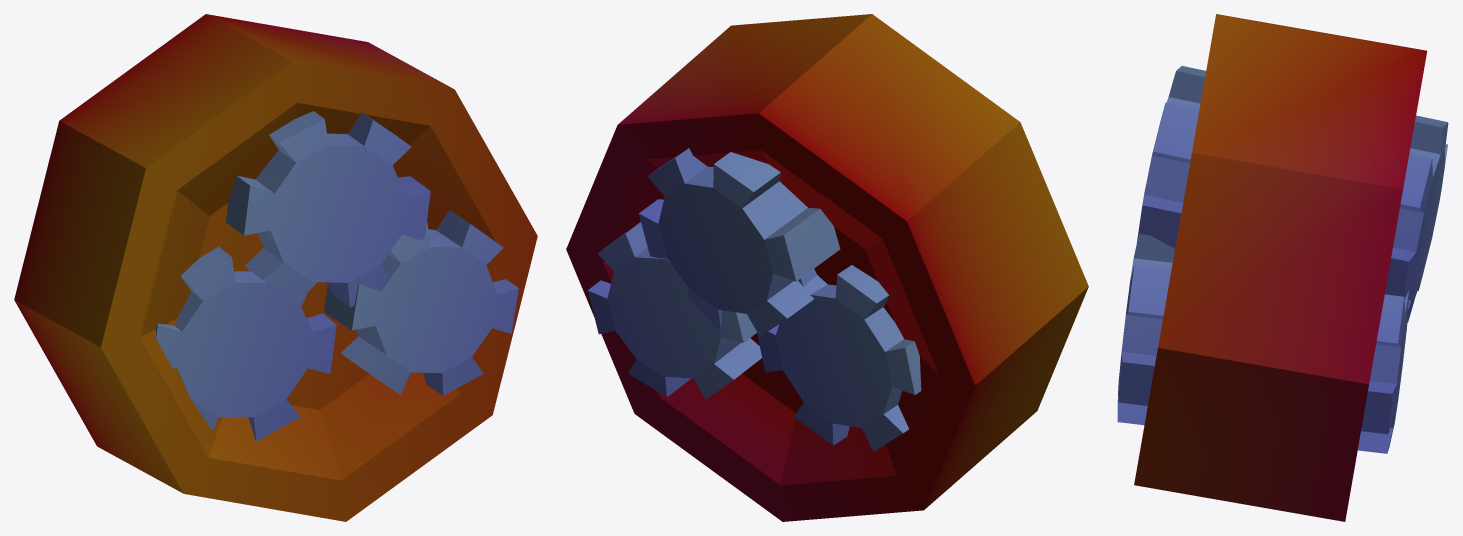
Rendered from монетка .fbx.
3 views of the same model, side by side, from view 1: azimuth 30°, elevation 25°; view 2: azimuth 150°, elevation 25°; view 3: azimuth 270°, elevation 25° (orthographic). The views are drawn at different scales.
Parts seen in each view (by area): view 1: Cylinder.057, Cylinder.060, Cylinder.058, Cylinder.059; view 2: Cylinder.057, Cylinder.060, Cylinder.059, Cylinder.058; view 3: Cylinder.057, Cylinder.060, Cylinder.058.
Part boxes in pixels (<box>): Cylinder.057: <box>14,14,537,521</box>; Cylinder.060: <box>226,111,430,307</box>; Cylinder.058: <box>324,210,518,395</box>; Cylinder.059: <box>156,246,336,441</box>; Cylinder.057: <box>566,14,1088,521</box>; Cylinder.060: <box>638,148,840,336</box>; Cylinder.059: <box>757,265,921,451</box>; Cylinder.058: <box>587,222,761,399</box>; Cylinder.057: <box>1134,14,1427,521</box>; Cylinder.060: <box>1136,66,1448,322</box>; Cylinder.058: <box>1117,234,1409,453</box>.
Bounding box in the file's own units: 205 × 210 × 128.
